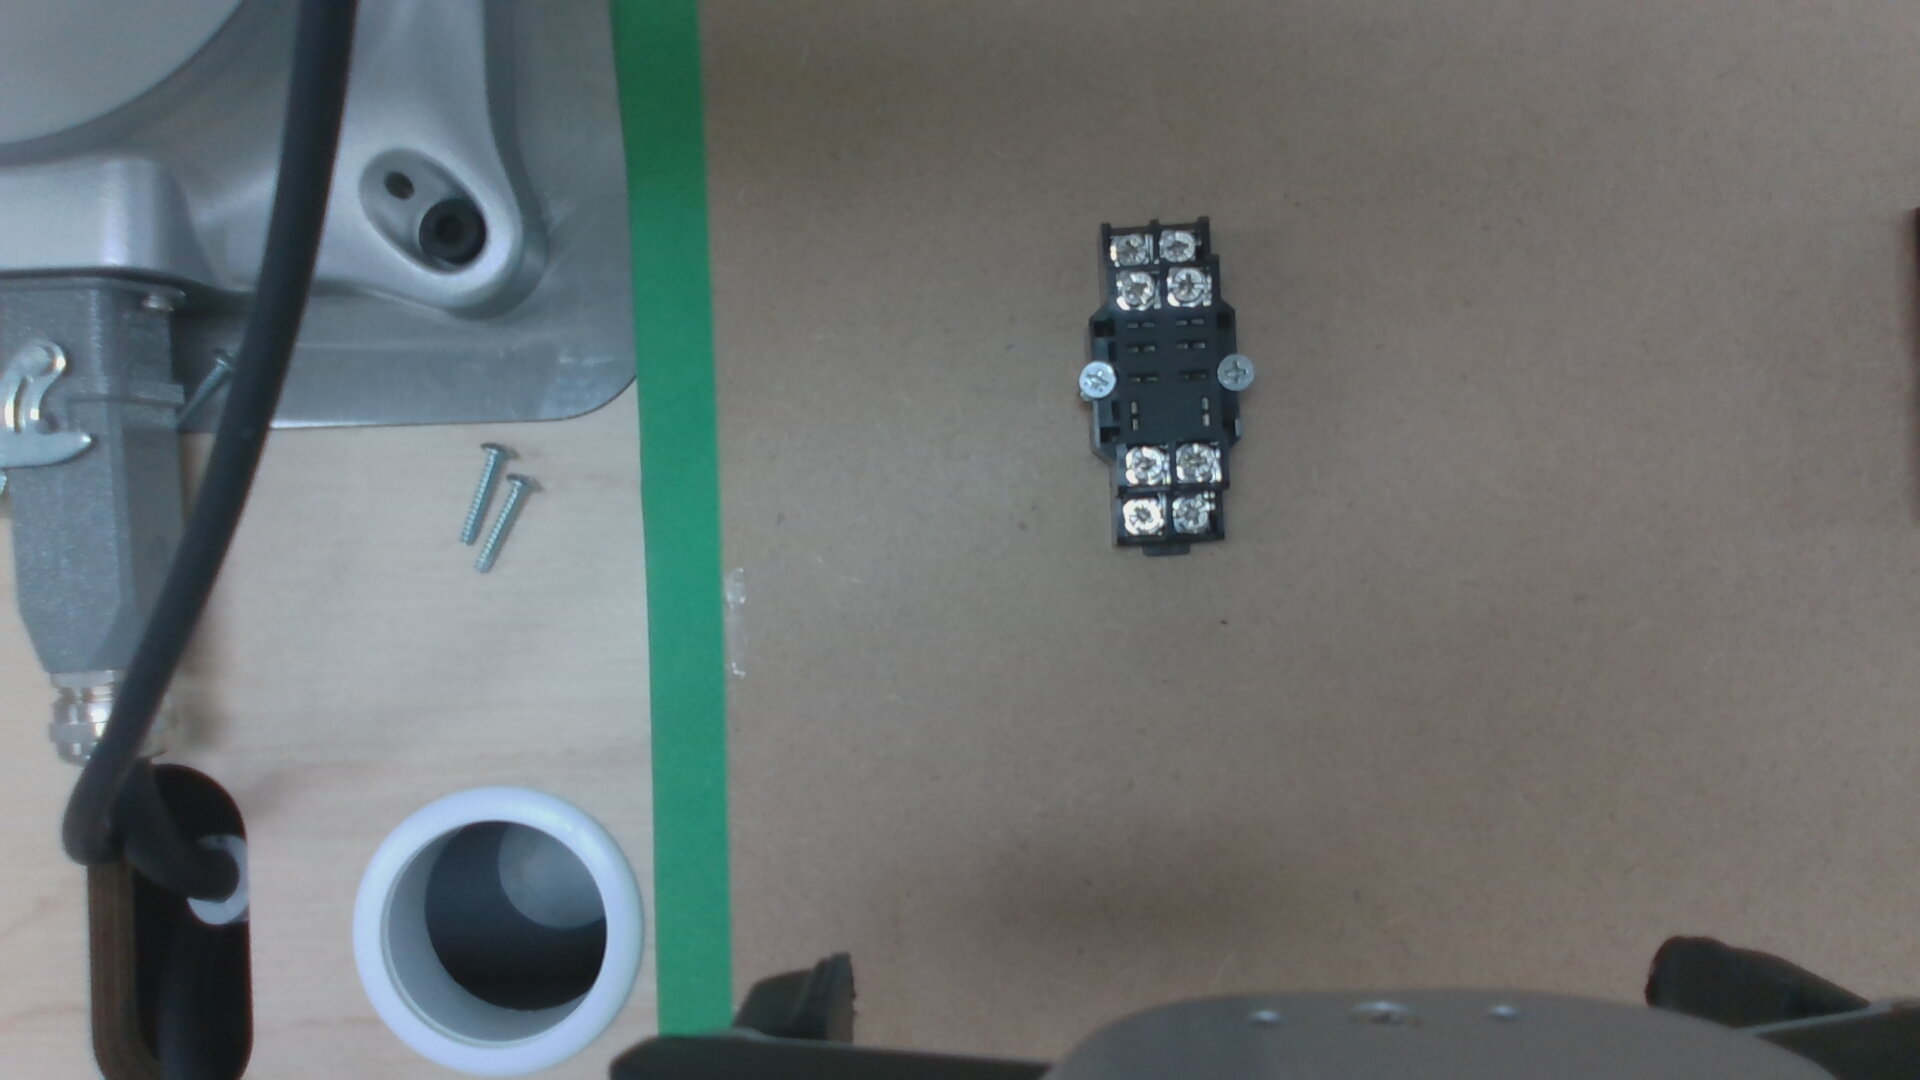relay 3: (1160, 231, 1197, 261)
relay 4: (1109, 237, 1151, 264)
relay 5: (1171, 495, 1213, 531)
relay 6: (1121, 498, 1163, 535)
relay 7: (1175, 444, 1218, 483)
relay 8: (1122, 446, 1168, 483)
